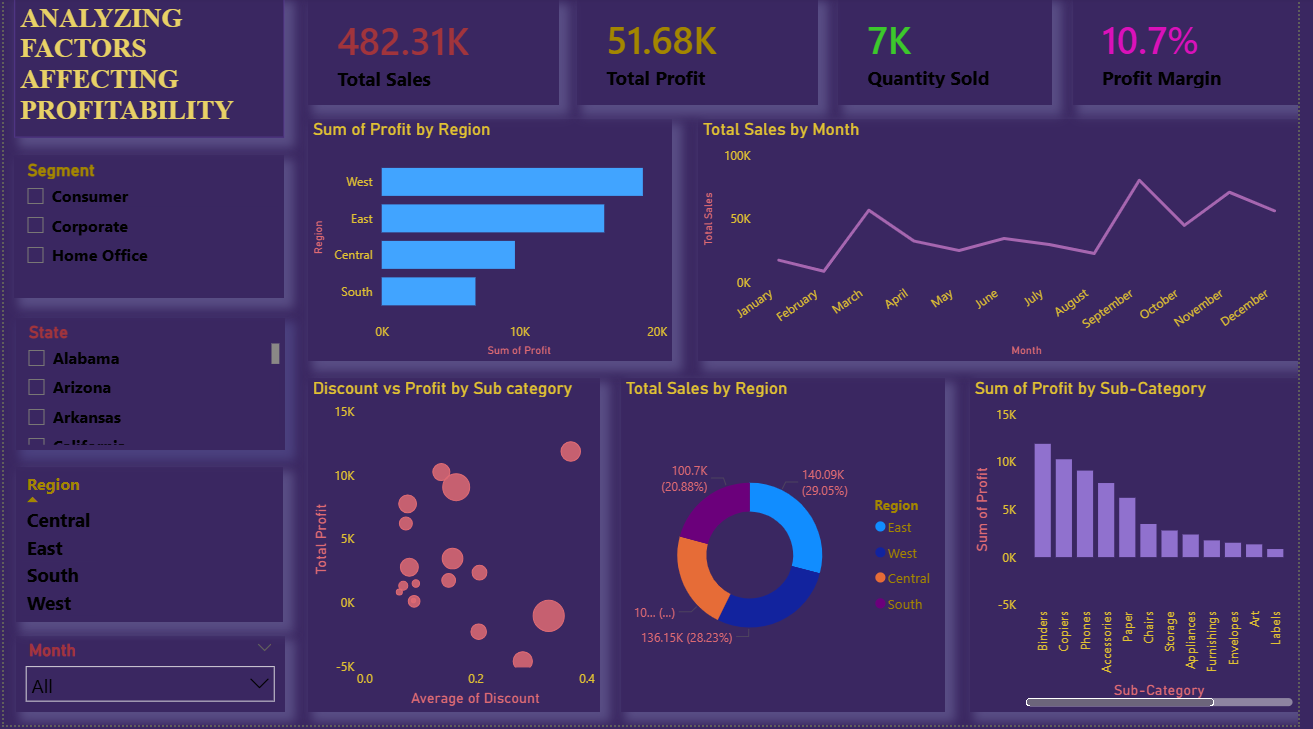

Layout of this report page (visuals, bound fields, positions):
{"tool":"powerbi","page":{"name":"Page 1","canvas":[1280,720],"ordinal":0},"visuals":[{"type":"textbox","box":[10.2,0,267.5,138.9],"z":0},{"type":"slicer","fields":{"Values":["Superstore Dataset.Segment"]},"box":[10.2,156.7,266.2,141.4],"z":1000},{"type":"slicer","fields":{"Values":["Superstore Dataset.State"]},"box":[11.5,317.2,266.2,131.2],"z":2000},{"type":"tableEx","fields":{"Values":["Superstore Dataset.Region"]},"box":[11.5,465,265,154.1],"z":3000},{"type":"slicer","fields":{"Values":["Superstore Dataset.Order Date.Variation.Date Hierarchy.Month"]},"box":[11.5,631.9,266.2,75.2],"z":4000},{"type":"cardVisual","fields":{"Data":["Superstore Dataset.Total Profit"]},"box":[566.9,0,238.2,107],"z":5000},{"type":"cardVisual","fields":{"Data":["Superstore Dataset.Quantity Sold"]},"box":[825.5,0,211.5,107],"z":6000},{"type":"cardVisual","fields":{"Data":["Superstore Dataset.Profit Margin"]},"box":[1057.3,0,222.9,107],"z":7000},{"type":"cardVisual","fields":{"Data":["Superstore Dataset.Total Sales"]},"box":[300.6,2.5,248.4,104.5],"z":8000},{"type":"clusteredBarChart","fields":{"Y":["Sum(Superstore Dataset.Profit)"],"Category":["Superstore Dataset.Region"]},"box":[300.6,121,360.5,239.5],"z":9000},{"type":"lineChart","fields":{"Y":["Superstore Dataset.Total Sales"],"Category":["Superstore Dataset.Order Date.Variation.Date Hierarchy.Month"]},"box":[686.6,121,593.6,239.5],"z":10000},{"type":"scatterChart","title":"Discount vs Profit by Sub category","fields":{"Y":["Superstore Dataset.Total Profit"],"X":["Avg(Superstore Dataset.Discount)"],"Size":["Sum(Superstore Dataset.Sales)"],"Category":["Superstore Dataset.Sub-Category"]},"box":[300.6,377.1,289.2,329.9],"z":11000},{"type":"donutChart","fields":{"Y":["Superstore Dataset.Total Sales"],"Category":["Superstore Dataset.Region"]},"box":[610.2,377.1,321,329.9],"z":12000},{"type":"columnChart","fields":{"Category":["Superstore Dataset.Sub-Category"],"Y":["Sum(Superstore Dataset.Profit)"]},"box":[955.4,377.1,324.8,329.9],"z":13000}]}

Visuals, with their boxes in screenshot pixels (x1, y1, x2, y2), scaled from the page's 1280x720 canvas onto the 1313x729 screenshot:
textbox: x1=10, y1=0, x2=285, y2=141
slicer - Superstore Dataset.Segment: x1=10, y1=159, x2=284, y2=302
slicer - Superstore Dataset.State: x1=12, y1=321, x2=285, y2=454
tableEx - Superstore Dataset.Region: x1=12, y1=471, x2=284, y2=627
slicer - Superstore Dataset.Order Date.Variation.Date Hierarchy.Month: x1=12, y1=640, x2=285, y2=716
cardVisual - Superstore Dataset.Total Profit: x1=582, y1=0, x2=826, y2=108
cardVisual - Superstore Dataset.Quantity Sold: x1=847, y1=0, x2=1064, y2=108
cardVisual - Superstore Dataset.Profit Margin: x1=1085, y1=0, x2=1312, y2=108
cardVisual - Superstore Dataset.Total Sales: x1=308, y1=3, x2=563, y2=108
clusteredBarChart - Sum(Superstore Dataset.Profit) x Superstore Dataset.Region: x1=308, y1=123, x2=678, y2=365
lineChart - Superstore Dataset.Total Sales x Superstore Dataset.Order Date.Variation.Date Hierarchy.Month: x1=704, y1=123, x2=1312, y2=365
"Discount vs Profit by Sub category" scatterChart: x1=308, y1=382, x2=605, y2=716
donutChart - Superstore Dataset.Total Sales x Superstore Dataset.Region: x1=626, y1=382, x2=955, y2=716
columnChart - Superstore Dataset.Sub-Category x Sum(Superstore Dataset.Profit): x1=980, y1=382, x2=1312, y2=716
